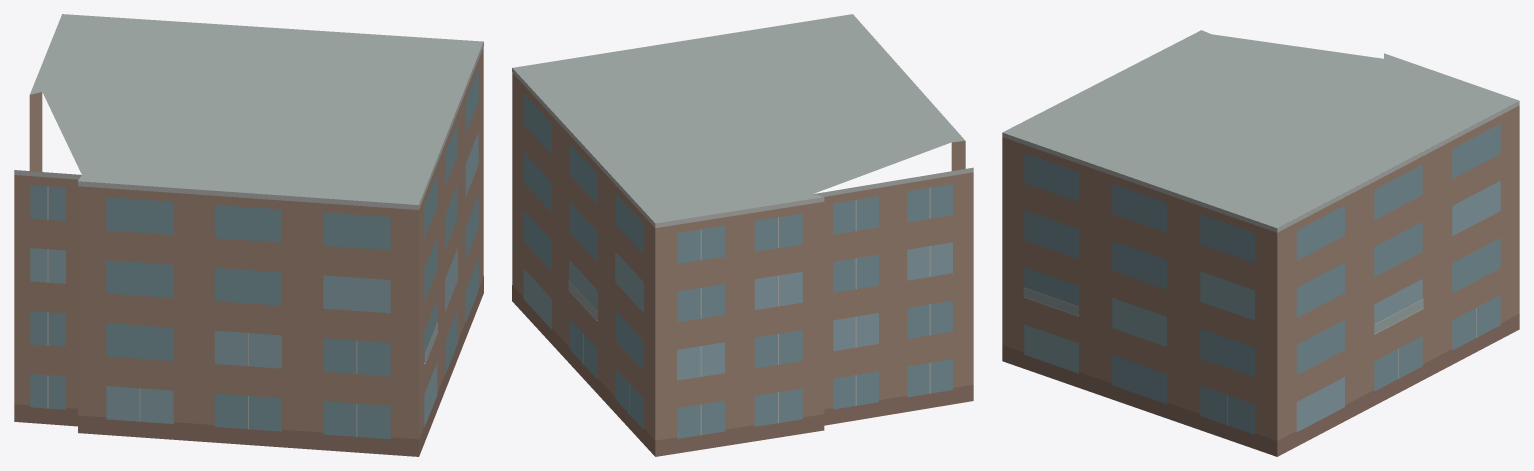
Rendered from survey-upis-32967520.glb.
3 renders of one model, left to right at view 1: azimuth 30°, elevation 25°; view 2: azimuth 150°, elevation 25°; view 3: azimuth 270°, elevation 25°, orthographic. The views are drawn at different scales.
Parts seen in each view (by area): view 1: survey-upis-32967520.tmp; view 2: survey-upis-32967520.tmp; view 3: survey-upis-32967520.tmp.
Part boxes in pixels (box(x1,y1,x2,y2)): survey-upis-32967520.tmp: box(14, 14, 483, 456); survey-upis-32967520.tmp: box(512, 14, 973, 456); survey-upis-32967520.tmp: box(1002, 30, 1519, 456).
Size of the model in its own units: 24.73 by 12.3 by 25.24.
